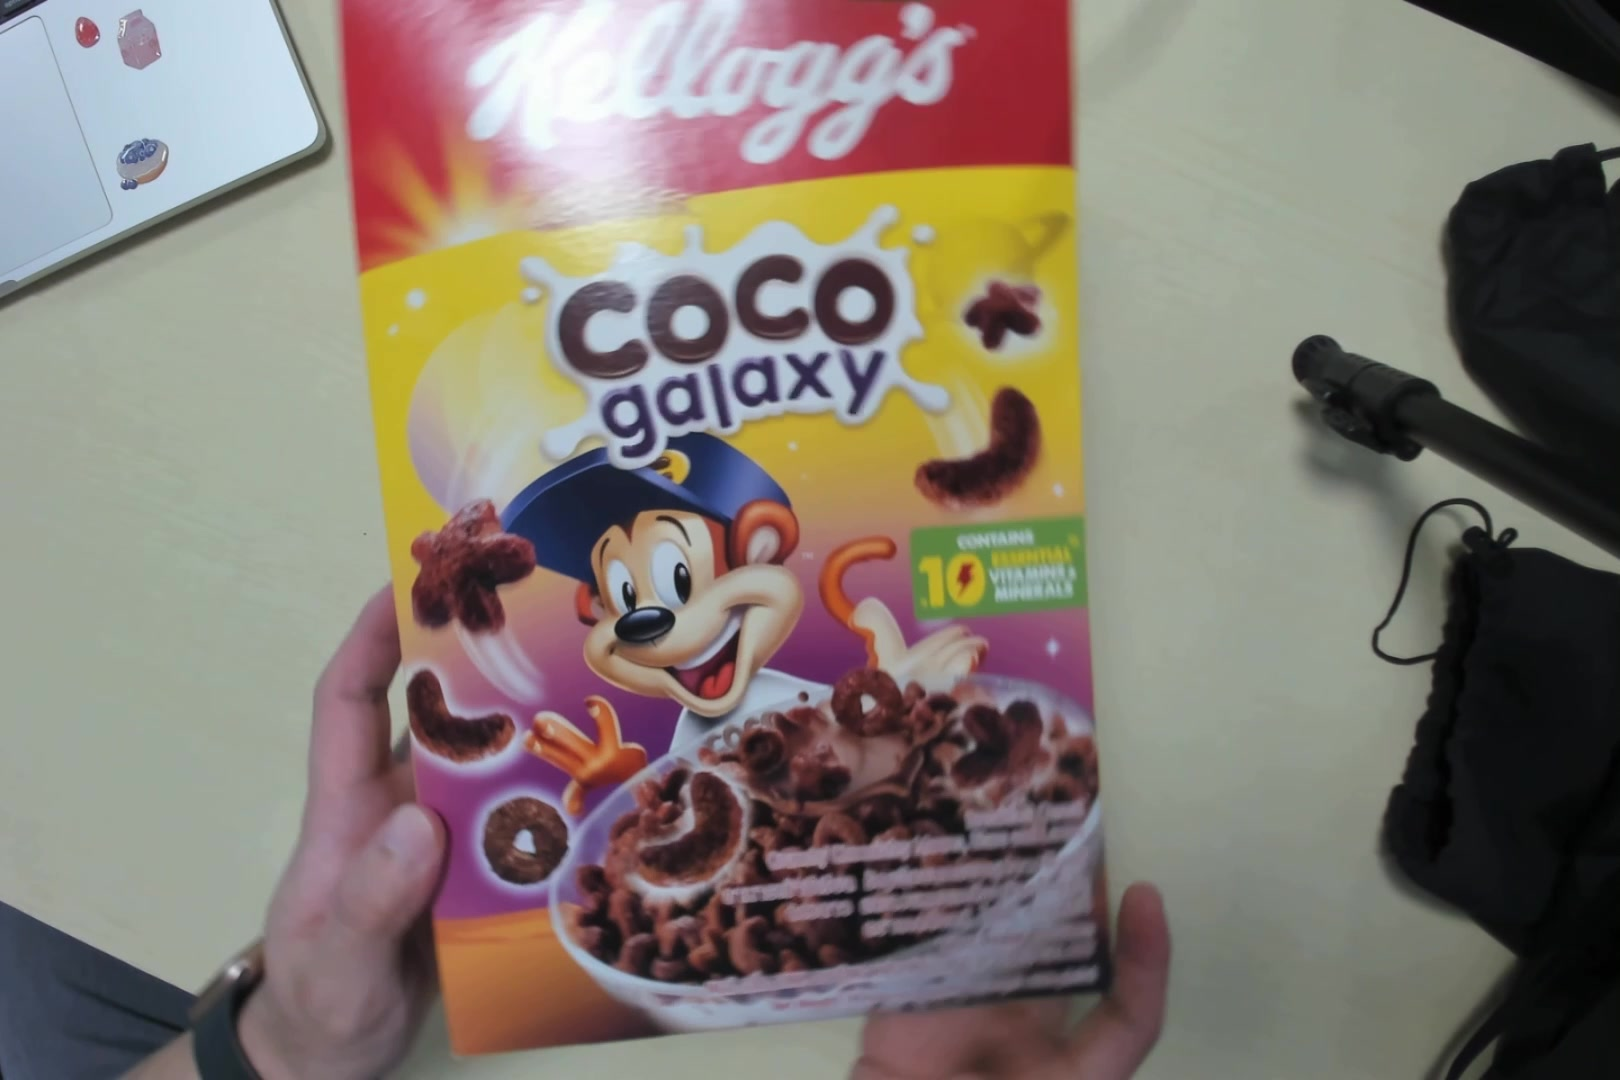BreakfastCereals_300-399g_Halal_NonHealthy: (360, 8, 1114, 1046)
